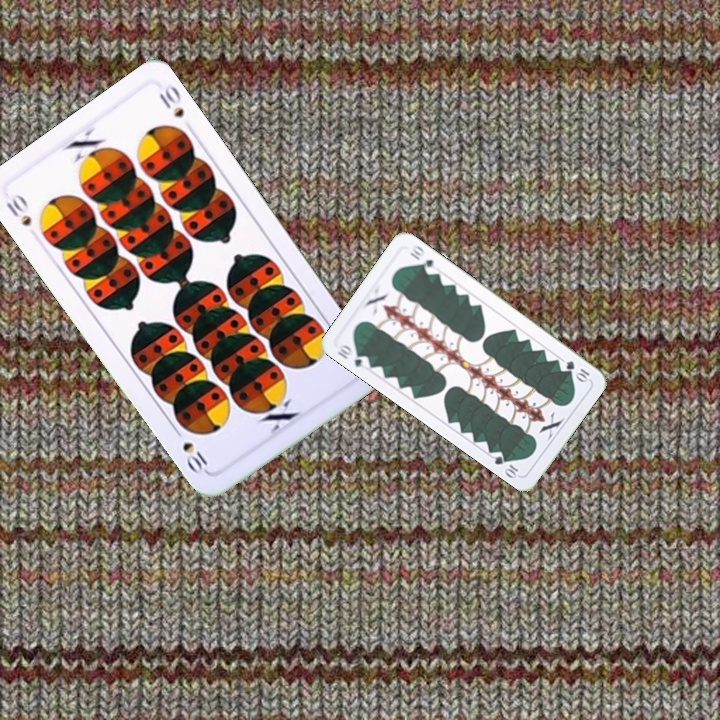G10: (333, 339, 372, 372), (562, 356, 593, 384)
S10: (2, 189, 34, 229)
